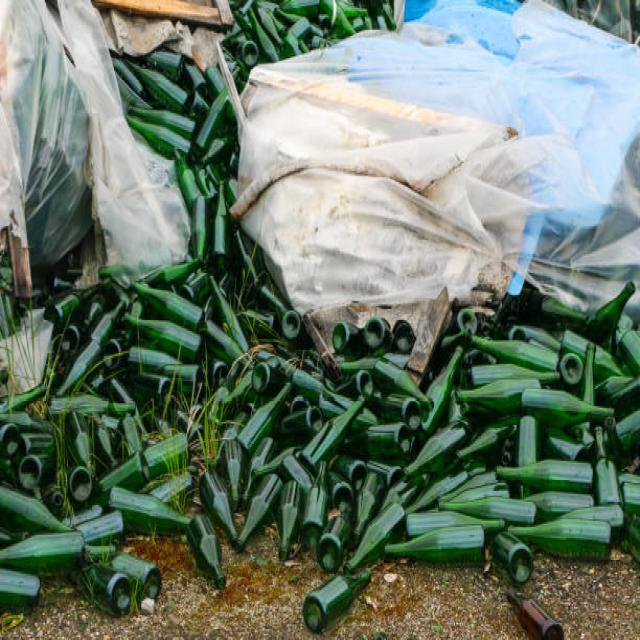glass: (56, 347, 613, 621)
